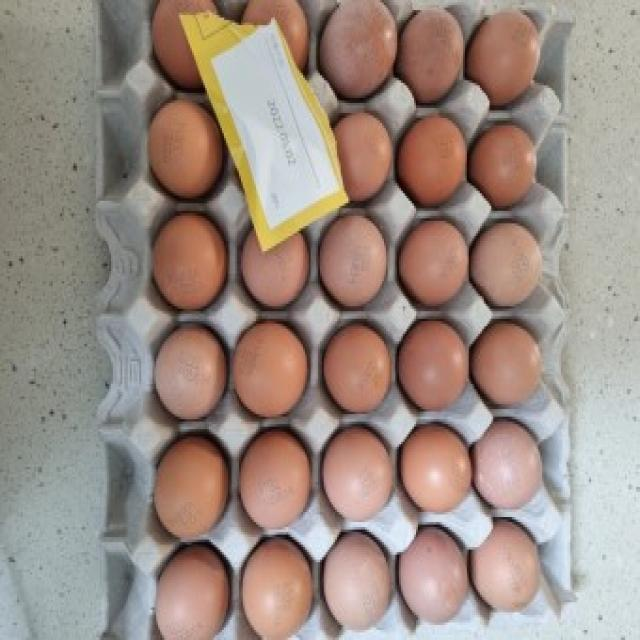eggs: (149, 314, 233, 422), (147, 539, 236, 640), (150, 430, 235, 535), (316, 314, 398, 422), (468, 9, 548, 117), (234, 426, 316, 530), (237, 532, 317, 638), (233, 317, 314, 418), (321, 520, 395, 629), (153, 208, 230, 310), (396, 523, 471, 626), (396, 112, 473, 211), (466, 410, 541, 509), (319, 421, 396, 517), (394, 215, 472, 306), (323, 0, 401, 91), (394, 417, 472, 503), (474, 215, 545, 309), (470, 313, 542, 405), (318, 210, 390, 302), (394, 312, 469, 397), (470, 520, 539, 612), (401, 11, 468, 102), (316, 313, 376, 408), (469, 119, 538, 198)
